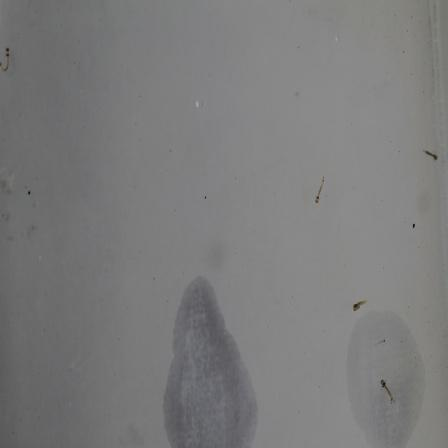Jentik-Nyamuk: (374, 374, 399, 406), (311, 170, 331, 209), (345, 295, 372, 319), (418, 144, 440, 165)
